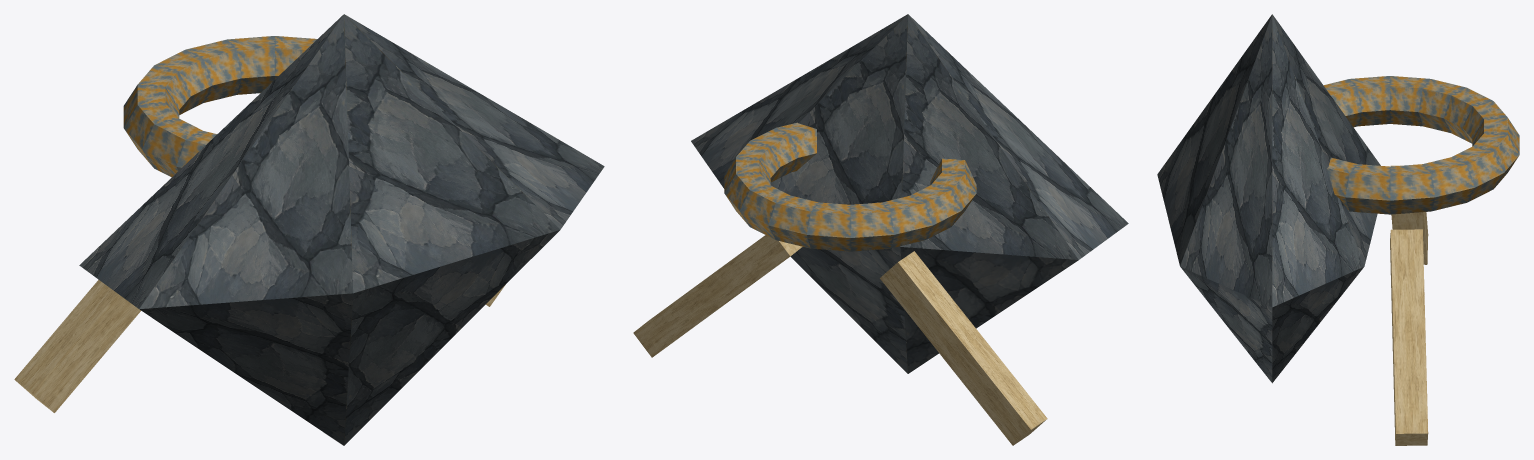
Rendered from PRP_RAVINE_ANCHOR_001.obj.
3 views of the same model, side by side, from view 1: azimuth 30°, elevation 25°; view 2: azimuth 150°, elevation 25°; view 3: azimuth 270°, elevation 25° (orthographic). The views are drawn at different scales.
Visible parts, largest first — view 1: MountingRock, HighContrastAnchorRing, ReadableRopeExitLeft; view 2: MountingRock, HighContrastAnchorRing, ReadableRopeExitLeft, ReadableRopeExitRight; view 3: MountingRock, HighContrastAnchorRing, ReadableRopeExitRight, ReadableRopeExitLeft.
Boxes of the visible parts, box(x1,y1,x2,y2) form: MountingRock: box(79, 14, 604, 445); HighContrastAnchorRing: box(123, 36, 317, 177); ReadableRopeExitLeft: box(14, 279, 140, 412); MountingRock: box(691, 14, 1128, 373); HighContrastAnchorRing: box(724, 122, 976, 251); ReadableRopeExitLeft: box(880, 251, 1047, 445); ReadableRopeExitRight: box(633, 235, 802, 357); MountingRock: box(1157, 14, 1380, 383); HighContrastAnchorRing: box(1323, 76, 1519, 214); ReadableRopeExitRight: box(1390, 229, 1428, 445); ReadableRopeExitLeft: box(1391, 165, 1428, 264).
Size of the model in its own units: 0.9215 by 0.76 by 0.6758.
Materials: 3 (3 with a texture image).
